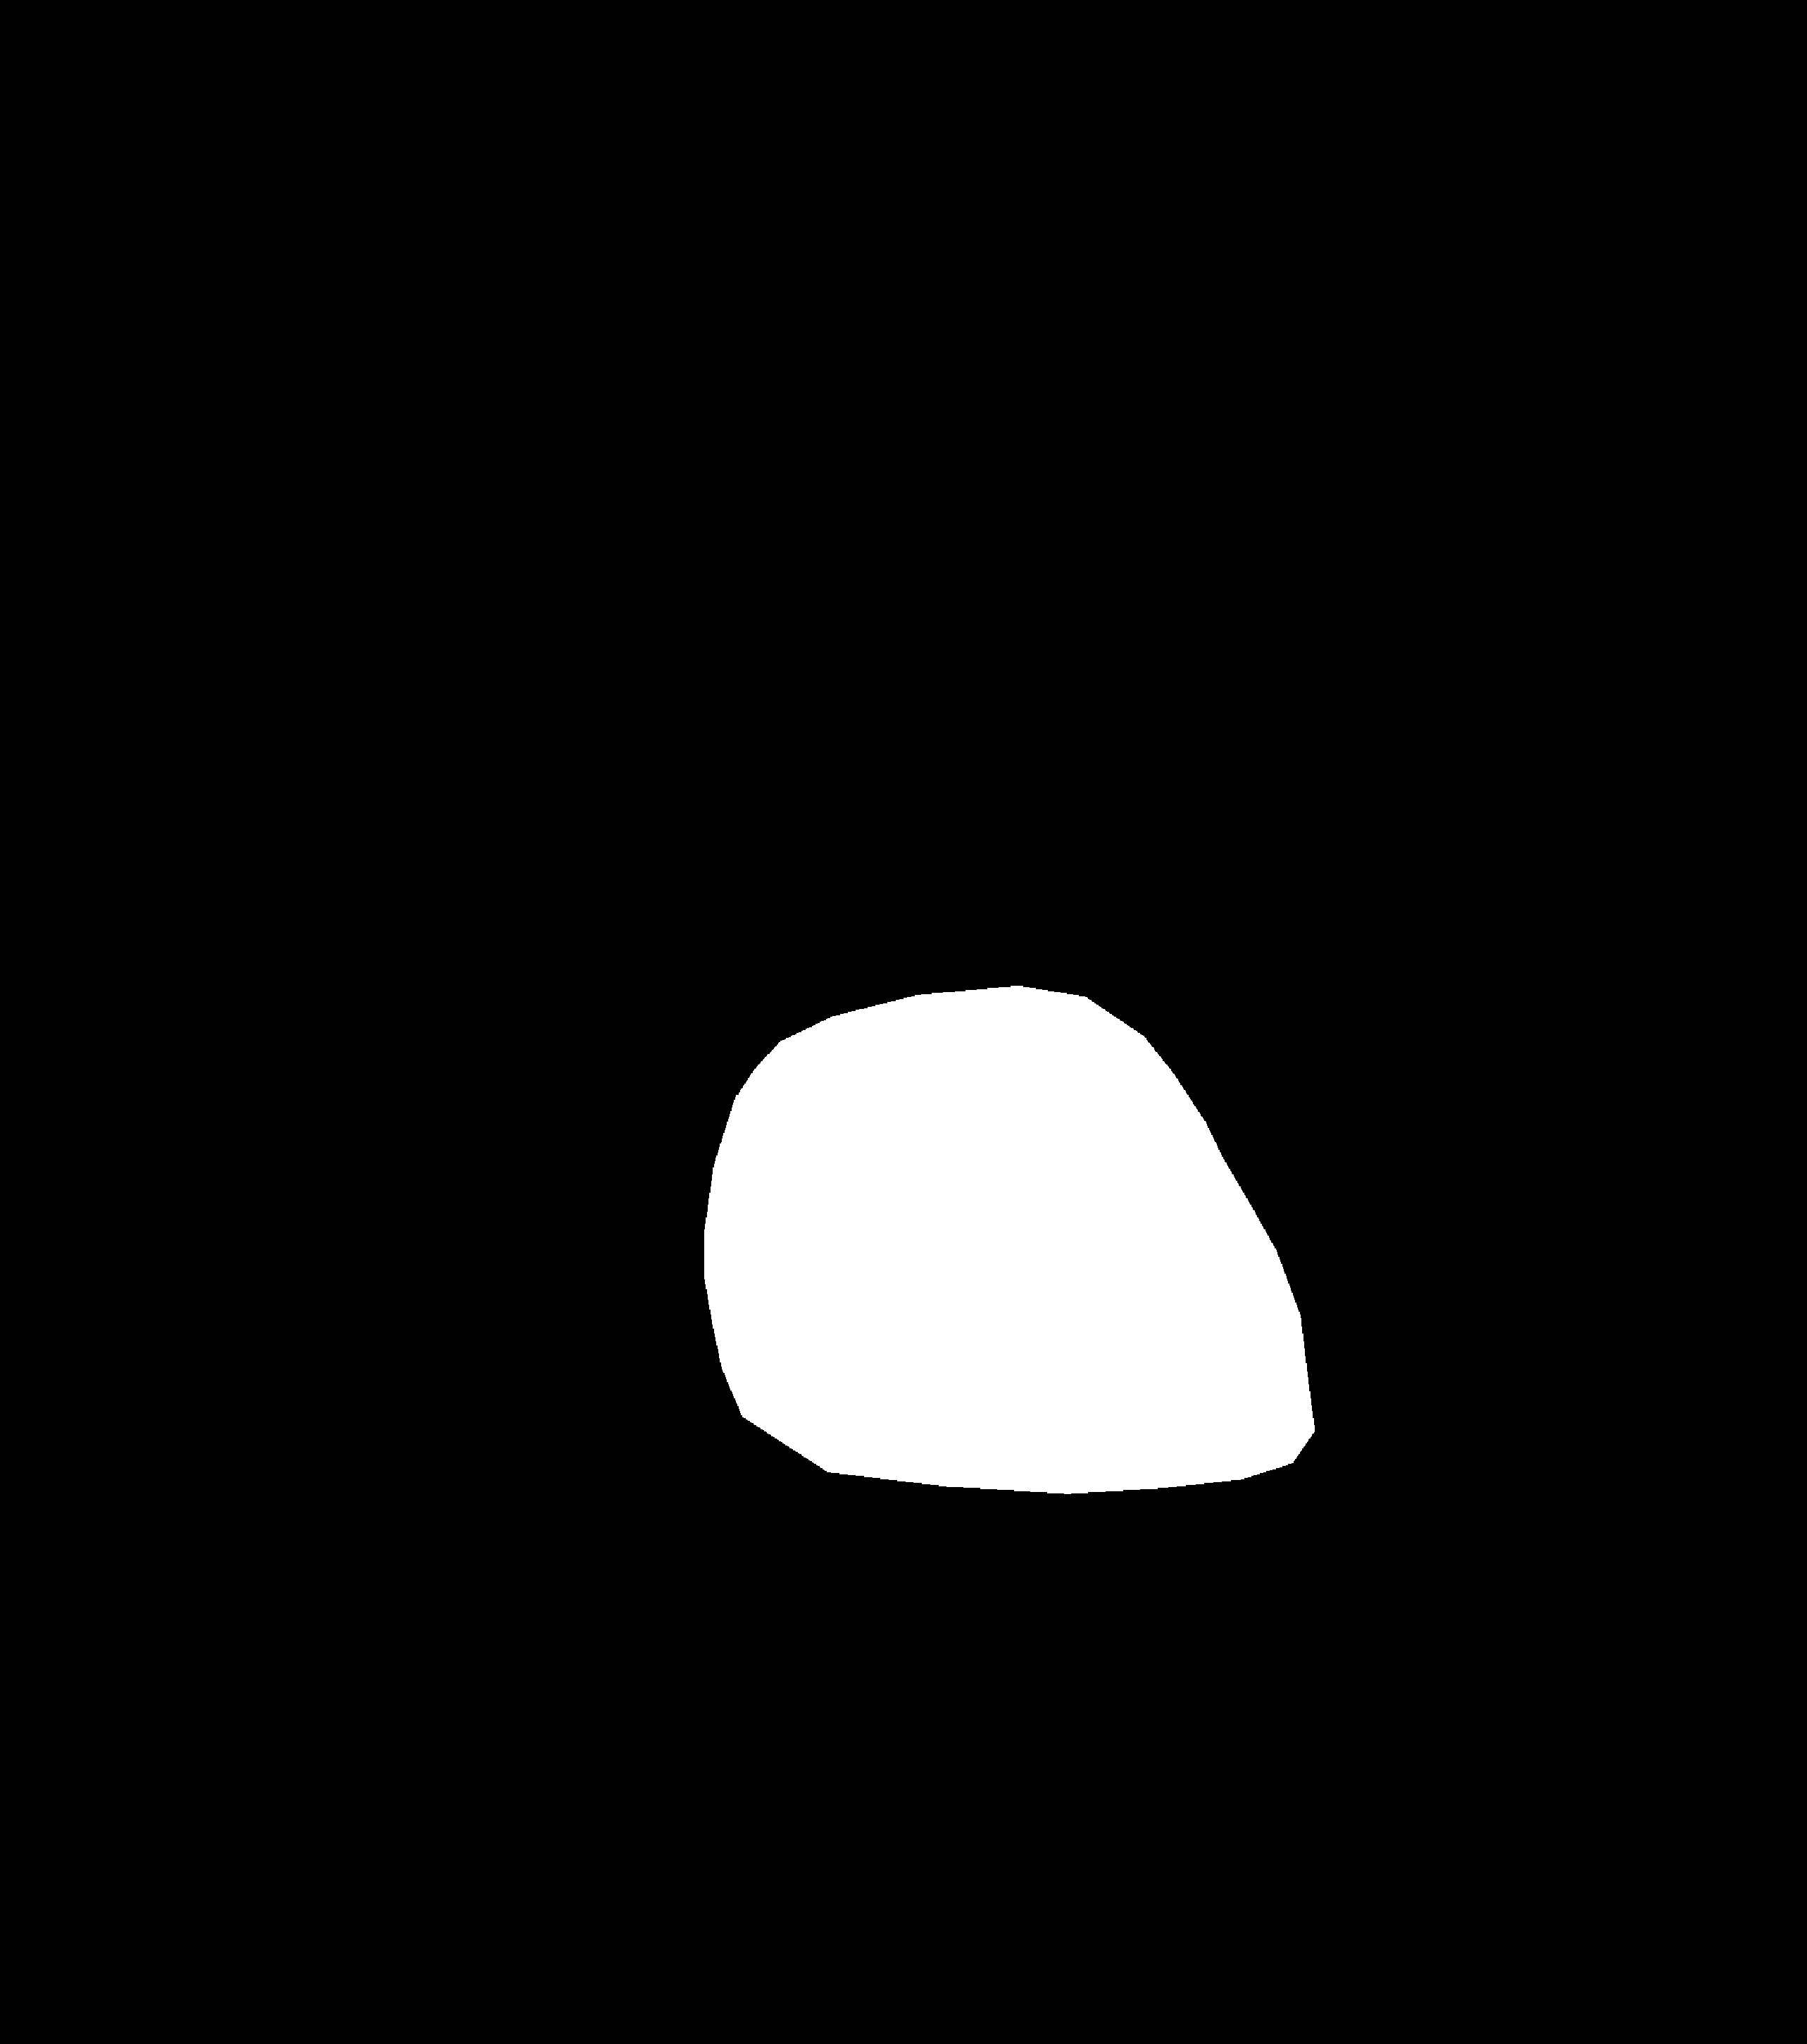heart: (706, 1062, 1312, 1523)
left_lung: (223, 270, 830, 1605)
right_lung: (980, 263, 1568, 1660)
